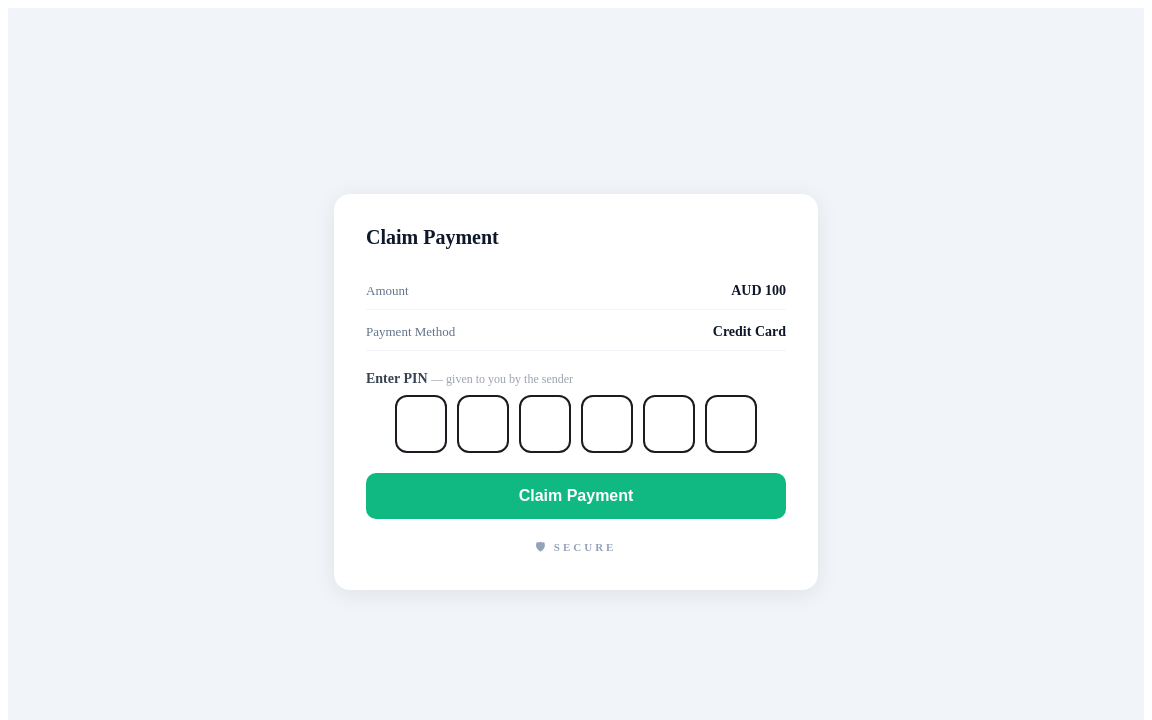
Test case: ClaimPaymentLink › shows incorrect PIN error on 403
Type "0" into the 1st field at [421, 424], box [395,395,447,453]
Type "0" into the 2nd field at [483, 424], box [457,395,509,453]
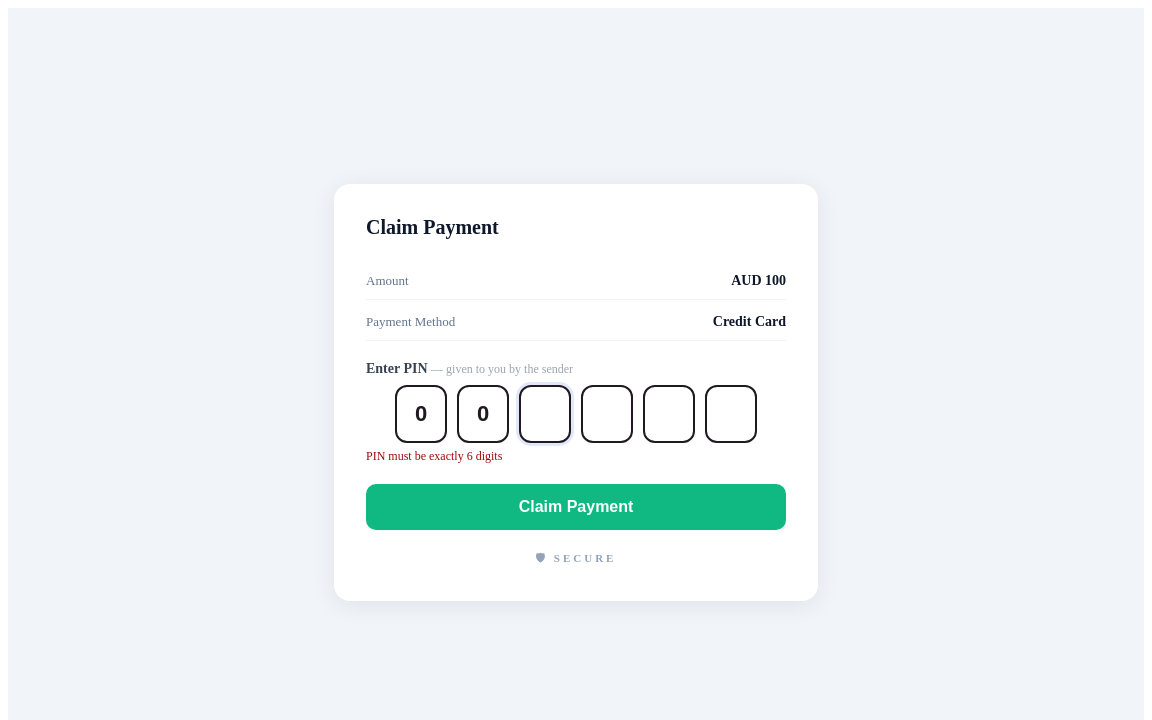
Type "0" into the 3rd field at [545, 414], box [519,384,571,442]
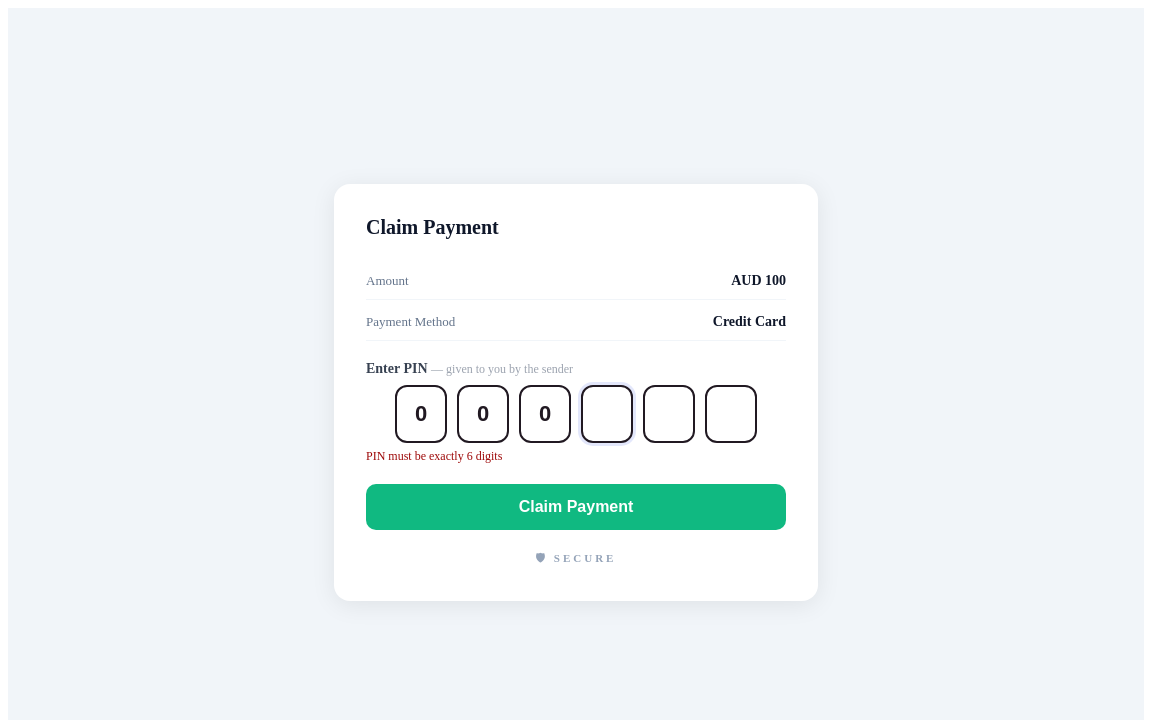
Type "0" into the 4th field at [607, 414], box [581,384,633,442]
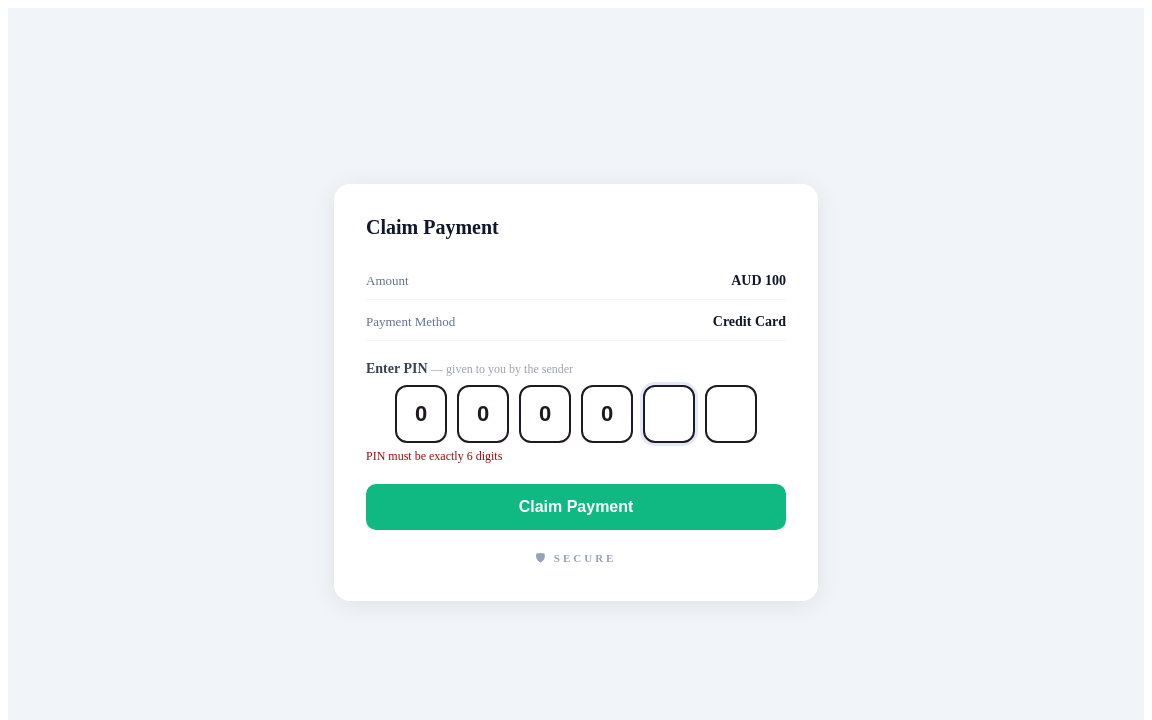
Type "0" into the 5th field at [669, 414], box [643,384,695,442]
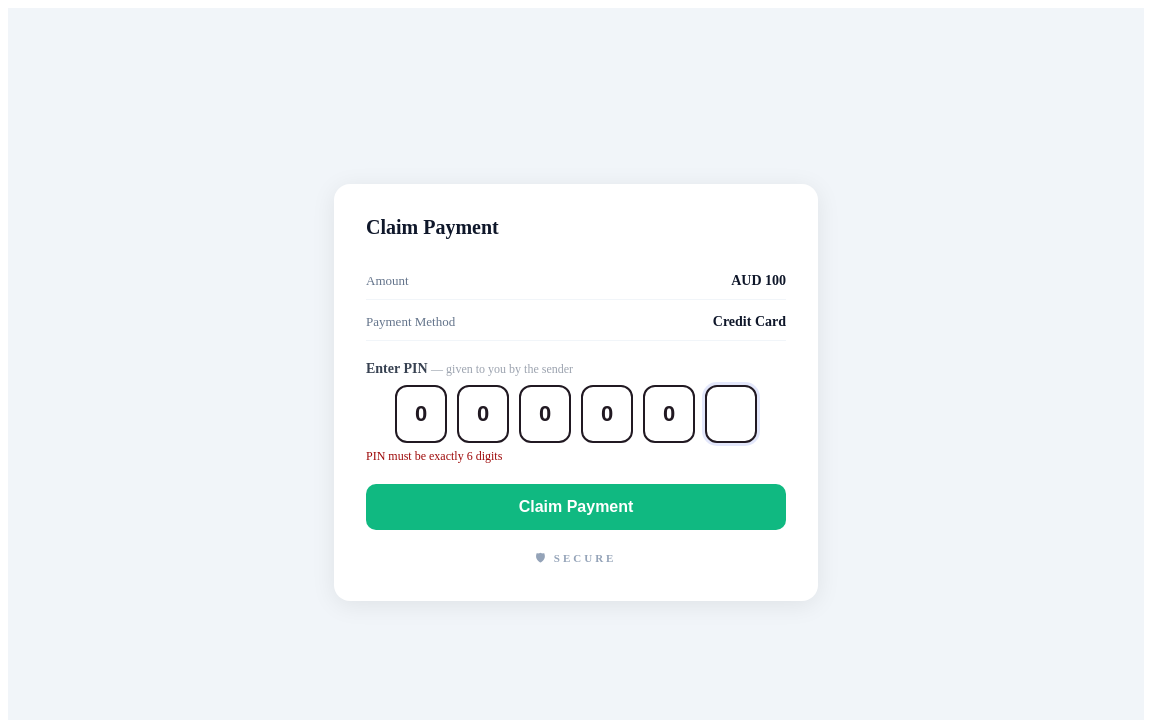
Type "0" into the 6th field at [731, 414], box [705,384,757,442]
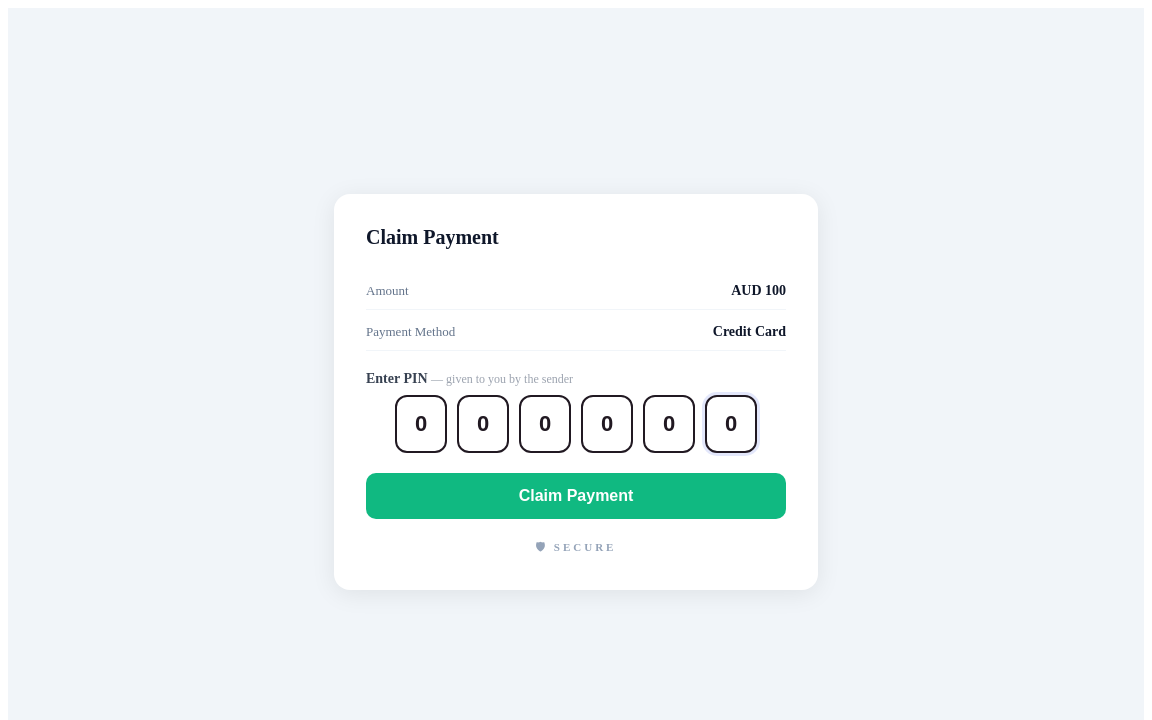
Click the button "Claim Payment" at [576, 496], box [366,473,786,519]
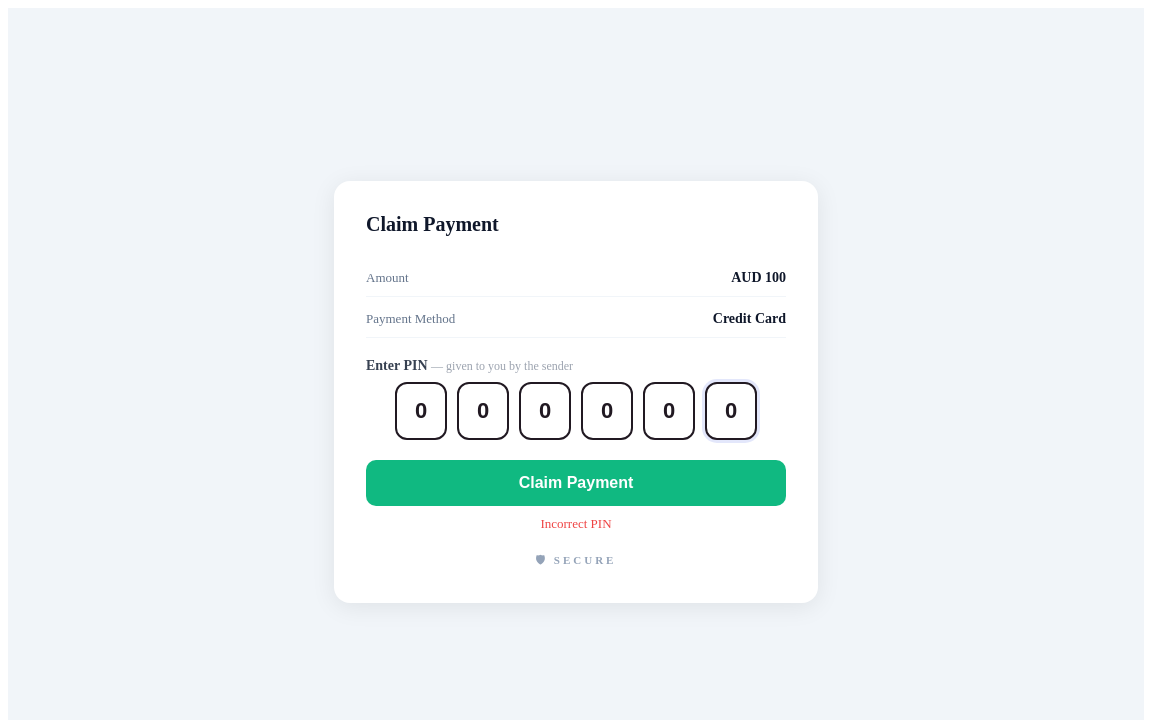
Expected: the text "Incorrect PIN" is shown, [540,516,612,531]
